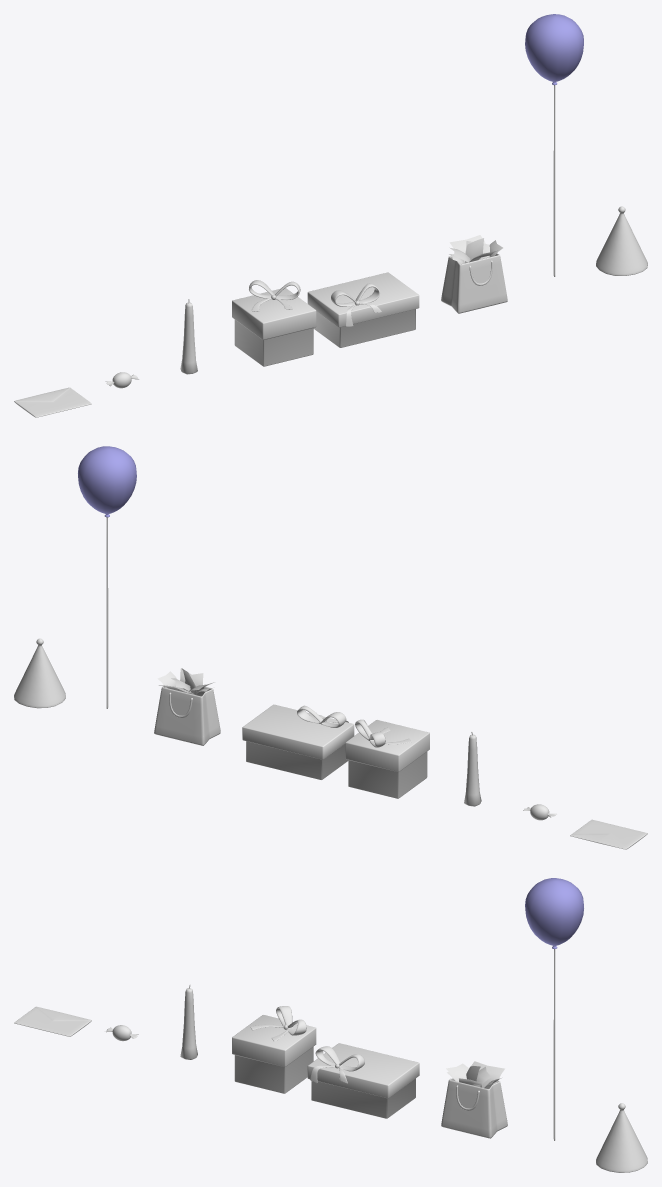
File: dreamItems.fbx
The picture shows the model from 3 angles, top to bottom: view 1: azimuth 30°, elevation 25°; view 2: azimuth 150°, elevation 25°; view 3: azimuth 330°, elevation 25°; orthographic projection.
Parts seen in each view (by area): view 1: Present_2, Present_1, Balloon, Present_Bag, PartyHat, Envelope, Plane, Candle, Bow.002, Bow; view 2: Present_2, Present_1, Balloon, Present_Bag, PartyHat, Envelope, Candle, Plane; view 3: Present_2, Present_1, Balloon, Present_Bag, PartyHat, Envelope, Plane, Candle, Bow.002, Bow.
Part boxes in pixels (x1,y1,x2,y2): Present_2: (307,272,419,347); Present_1: (232,288,316,366); Balloon: (525,14,583,276); Present_Bag: (441,253,507,313); PartyHat: (596,206,647,275); Envelope: (14,387,91,417); Plane: (449,235,502,264); Candle: (180,299,197,374); Bow.002: (331,283,381,326); Bow: (249,280,300,311); Present_2: (242,704,354,779); Present_1: (345,720,429,798); Balloon: (78,446,136,708); Present_Bag: (154,686,220,745); PartyHat: (14,638,65,708); Envelope: (570,819,647,849); Candle: (464,732,481,806); Plane: (157,668,214,696); Present_2: (307,1043,419,1118); Present_1: (232,1015,316,1093); Balloon: (525,878,583,1140); Present_Bag: (441,1078,507,1138); PartyHat: (596,1103,647,1172); Envelope: (14,1006,91,1036); Plane: (446,1061,504,1088); Candle: (180,984,197,1059); Bow.002: (310,1046,364,1083); Bow: (250,1006,306,1041).
Size of the model in its own units: 2454 by 1005 by 247.
